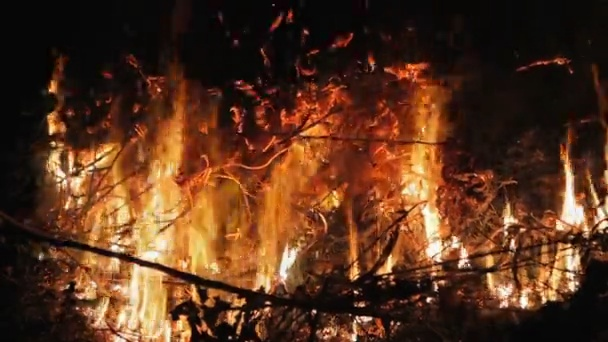fire: (45, 111, 219, 341), (366, 91, 467, 267), (254, 142, 341, 286), (552, 147, 588, 294), (493, 284, 531, 307), (593, 191, 608, 230), (501, 204, 519, 227)
